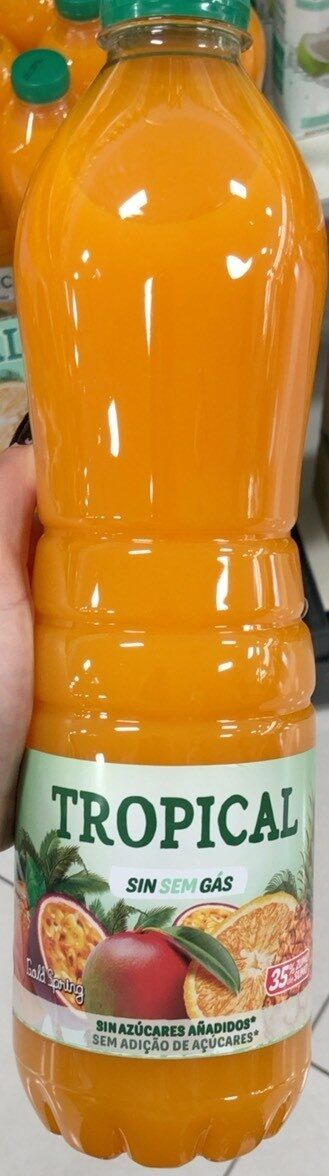Bebida Tropical Sin Gas: (16, 59, 313, 1117)
